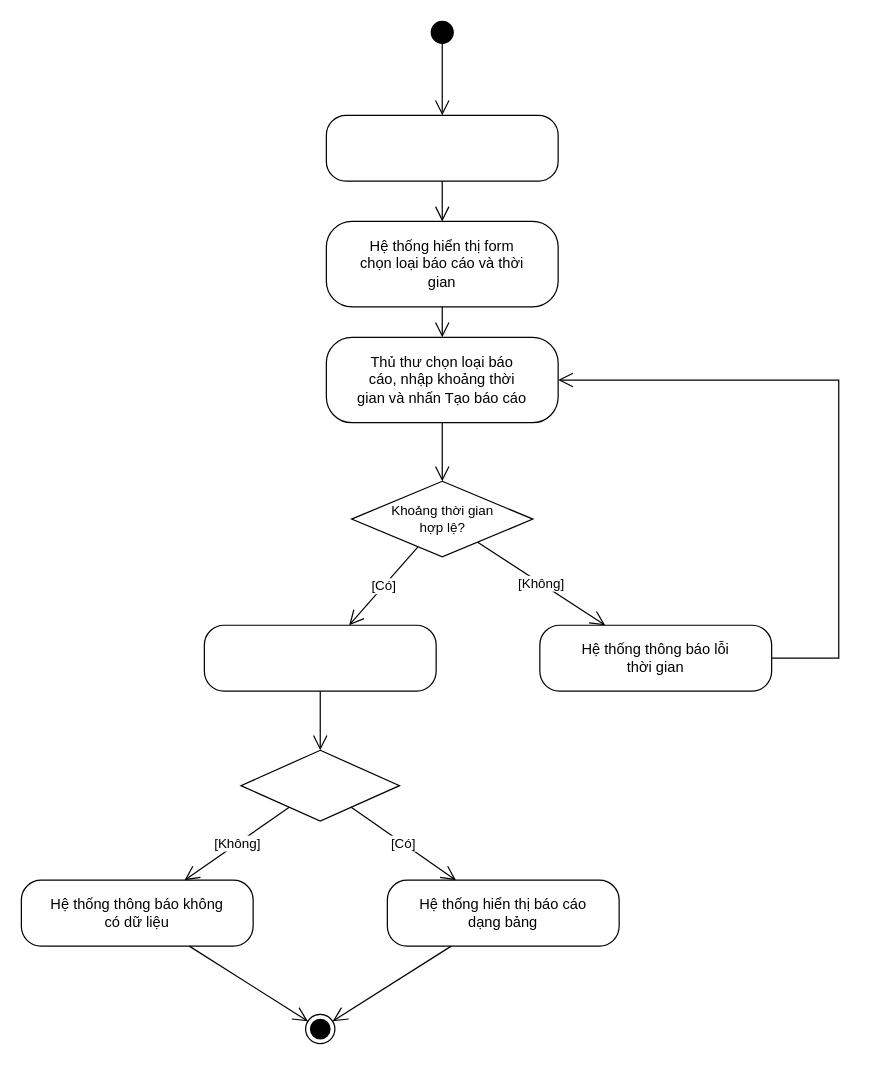
Some shapes in this 875 by 1065 pixel diagram are drawn without their labels. Each missing label, with the box of its shape:
Có dữ liệu?: (240, 749, 400, 821)
Hệ thống truy vấn và tổng hợp dữ liệu: (203, 624, 436, 691)
Thủ thư chọn Báo cáo, thống kê: (325, 114, 558, 181)
